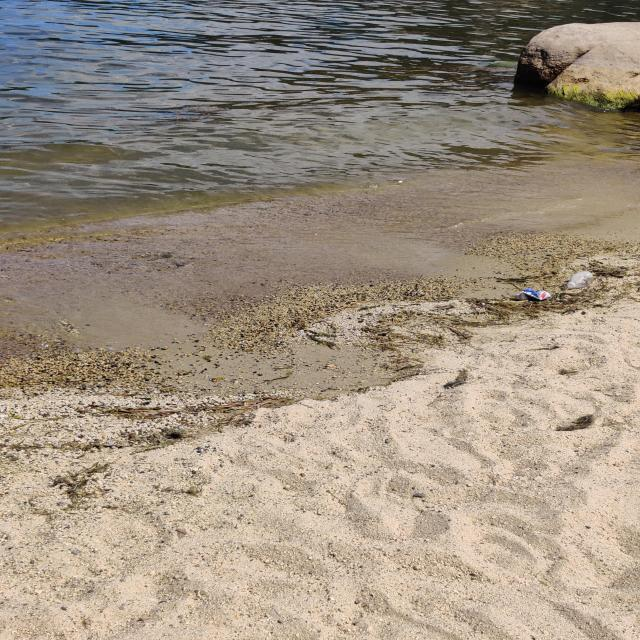litter: (566, 272, 594, 288), (514, 289, 551, 301)
